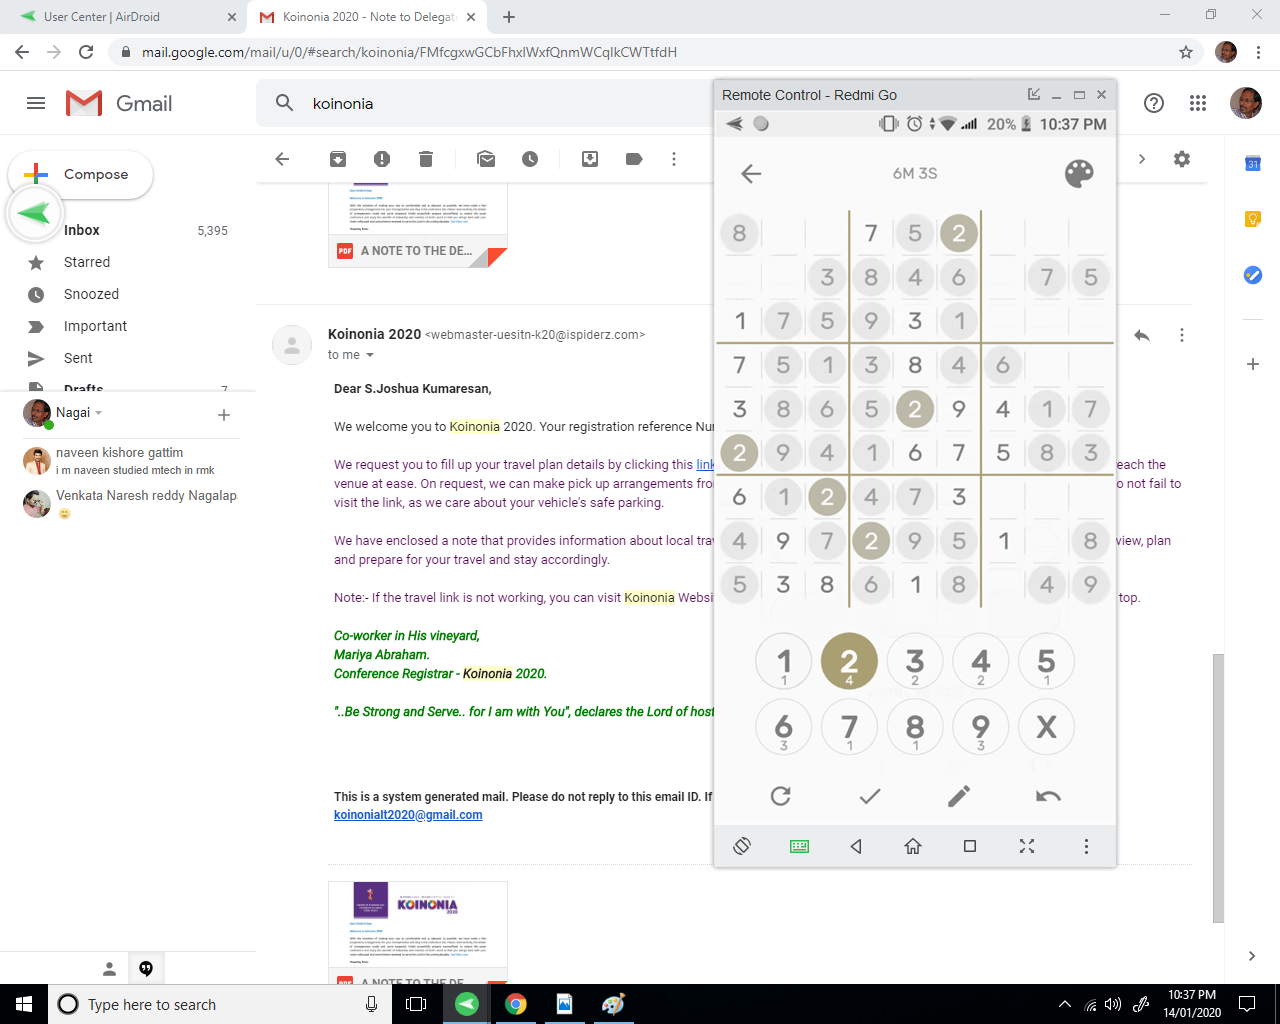1N: (716, 297, 766, 342), (1021, 387, 1069, 430), (848, 430, 897, 470), (898, 560, 941, 603), (805, 345, 848, 387)
2A: (818, 628, 880, 691), (715, 433, 772, 473), (893, 387, 938, 430), (851, 520, 898, 562), (938, 207, 981, 250), (806, 479, 852, 515)
3N: (891, 300, 941, 342), (762, 562, 806, 605), (805, 255, 850, 296), (938, 475, 981, 516)
7N: (1020, 253, 1070, 297), (1071, 386, 1115, 429), (893, 476, 938, 519), (804, 521, 850, 561)
X: (1013, 695, 1083, 763)
box: (712, 110, 1116, 827)
